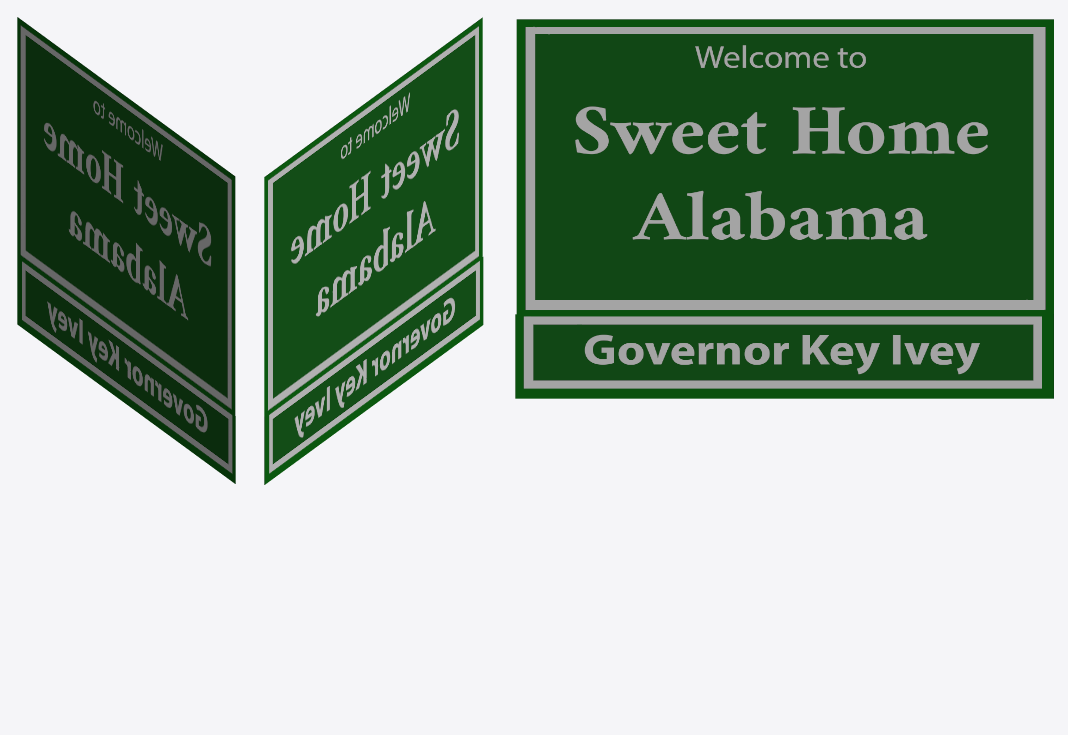
File: BigAndLittleSign.fbx
3 renders of one model, left to right at view 1: azimuth 30°, elevation 25°; view 2: azimuth 150°, elevation 25°; view 3: azimuth 270°, elevation 25°, orthographic. The views are drawn at different scales.
Visible parts, largest first — view 1: Plane; view 2: Plane; view 3: Plane.
Part boxes in pixels (<box>): Plane: <box>17,17,235,483</box>; Plane: <box>264,17,483,484</box>; Plane: <box>515,19,1053,398</box>.
Bounding box in the file's own units: 654 × 945 × 34.68.
Materials: 1 (1 with a texture image).
